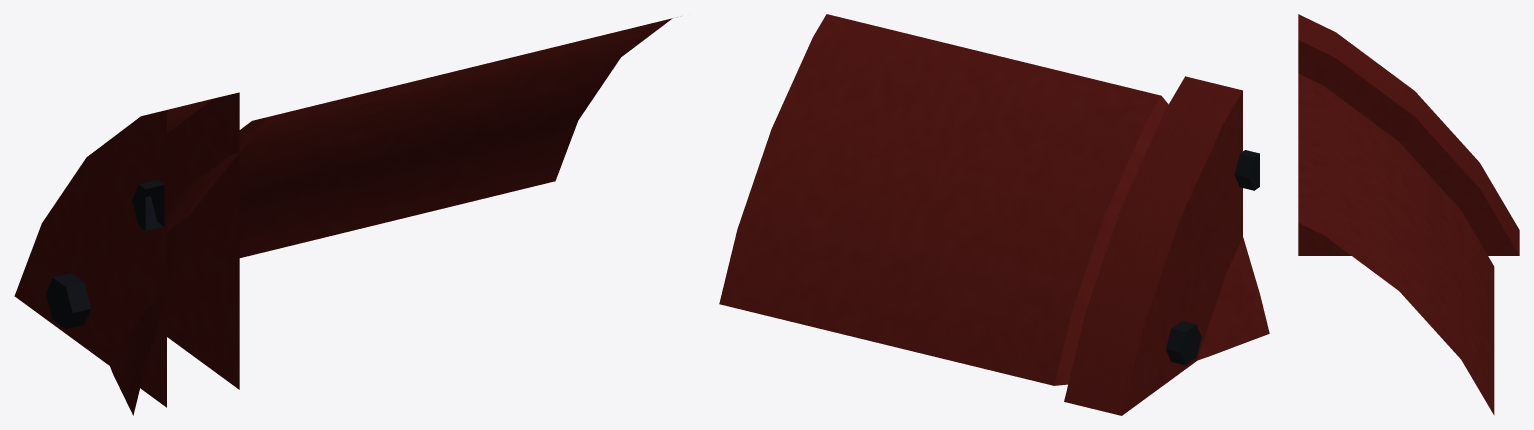
File: cell_49.obj
3 renders of one model, left to right at view 1: azimuth 30°, elevation 25°; view 2: azimuth 150°, elevation 25°; view 3: azimuth 270°, elevation 25°, orthographic. The views are drawn at different scales.
Visible parts, largest first — view 1: cell_49; view 2: cell_49; view 3: cell_49.
Boxes of the visible parts, x1,y1,x2,y2 form: cell_49: [14, 17, 677, 415]; cell_49: [719, 14, 1269, 415]; cell_49: [1298, 14, 1519, 415].
Size of the model in its own units: 0.9267 by 0.4732 by 0.4392.
